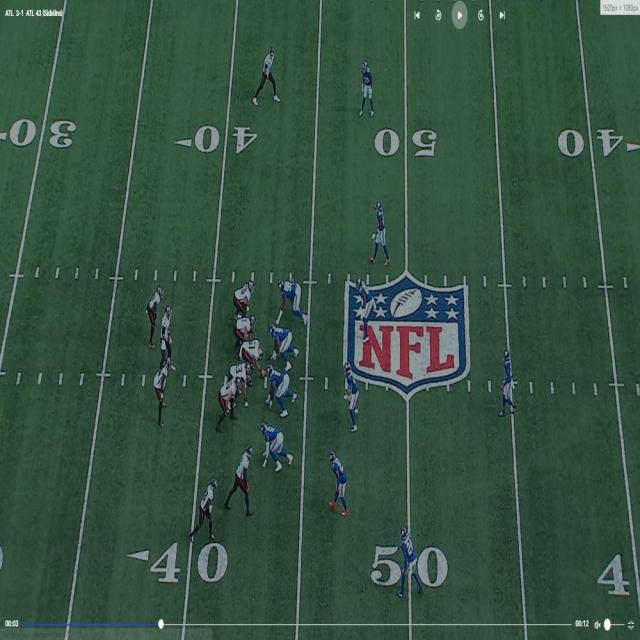center: (247, 338, 264, 376)
db: (394, 525, 419, 593), (328, 451, 345, 518), (502, 348, 516, 412), (359, 58, 374, 115), (375, 200, 388, 264)
lb: (355, 277, 371, 334), (347, 365, 361, 429)
qb: (158, 305, 176, 367)
skill: (255, 47, 278, 105), (233, 446, 254, 506), (154, 357, 171, 424), (200, 480, 218, 536), (146, 286, 162, 334)
